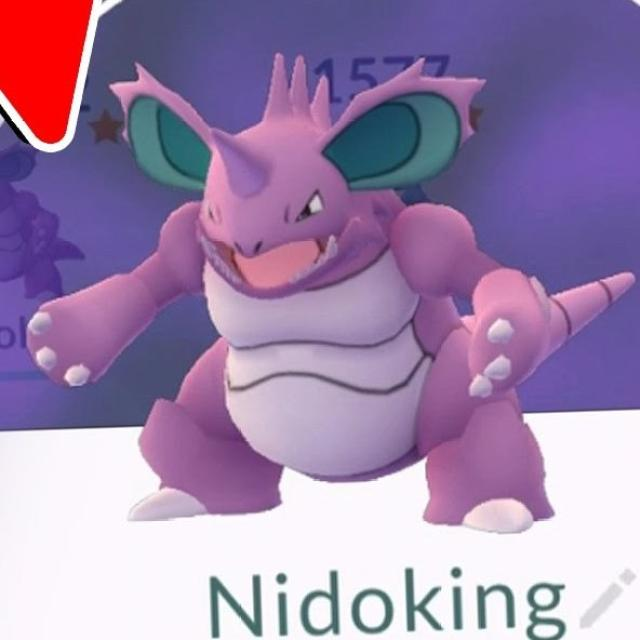Nidoking: (89, 63, 580, 529)
